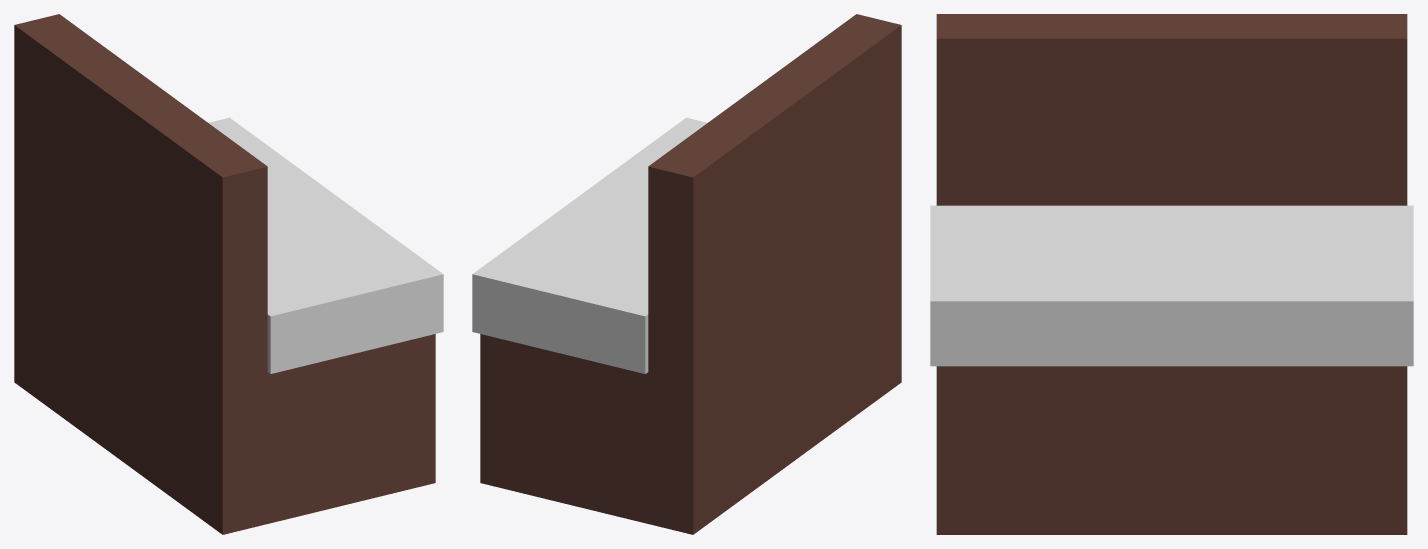
The model's file is Sitting1.fbx.
3 views of the same model, side by side, from view 1: azimuth 30°, elevation 25°; view 2: azimuth 150°, elevation 25°; view 3: azimuth 270°, elevation 25° (orthographic). The views are drawn at different scales.
Parts seen in each view (by area): view 1: Cube; view 2: Cube; view 3: Cube.
Part boxes in pixels (x1,y1,x2,y2): Cube: (14, 14, 443, 534); Cube: (472, 14, 901, 534); Cube: (930, 14, 1413, 534).
Size of the model in its own units: 309 by 483 by 524.
